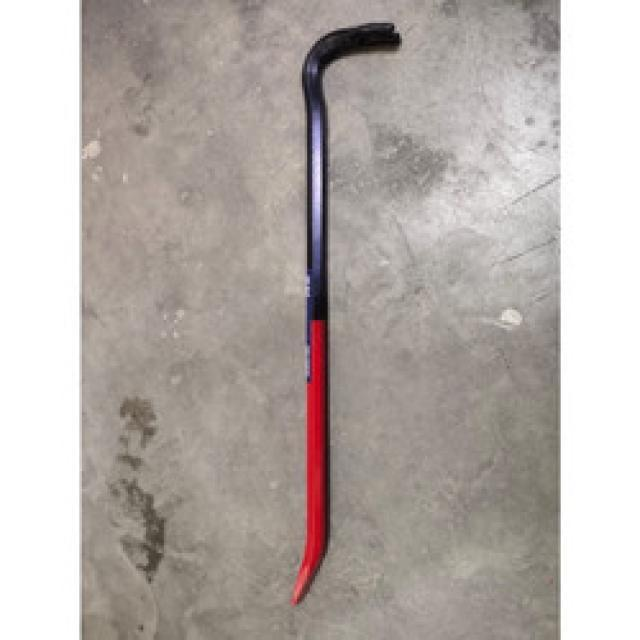Linggis: (274, 20, 408, 624)
